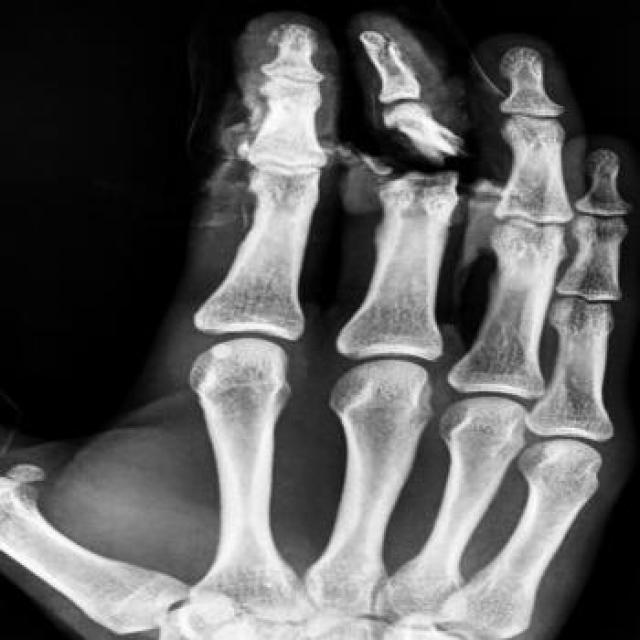Fracture: (390, 133, 476, 195)
